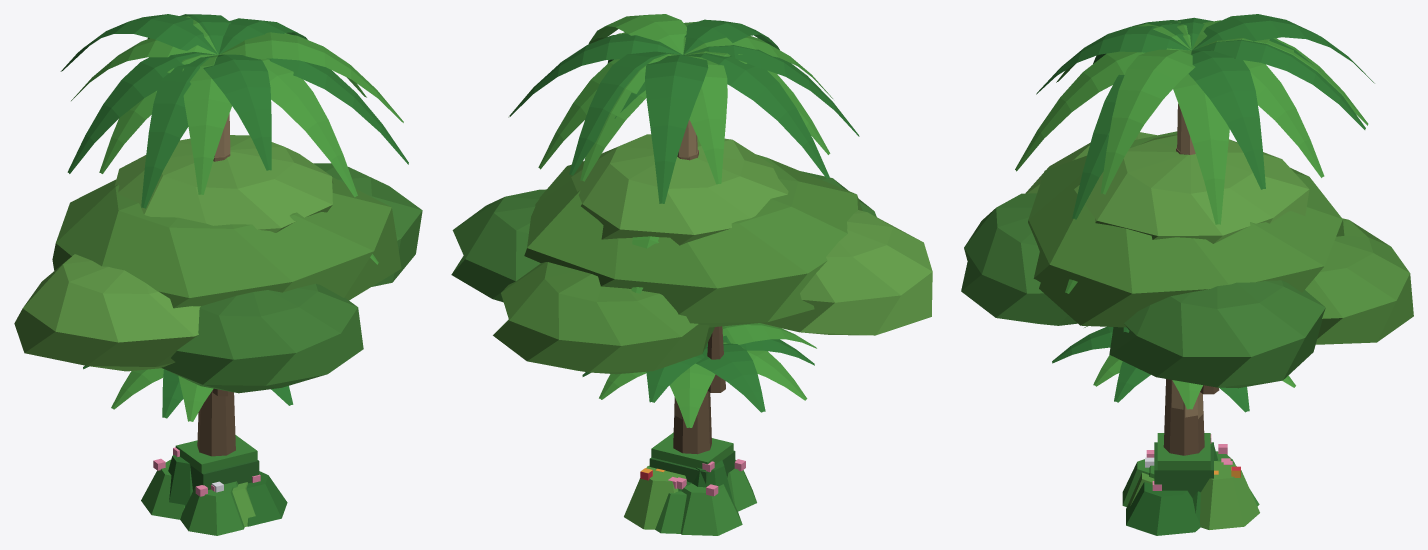
The model's file is veg.glb.
The picture shows the model from 3 angles, left to right: view 1: azimuth 30°, elevation 25°; view 2: azimuth 150°, elevation 25°; view 3: azimuth 270°, elevation 25°; orthographic projection. The views are drawn at different scales.
Visible parts, largest first — view 1: oak, palm_tall, shrub_b, palm_small, hedge, shrub_a; view 2: oak, palm_tall, palm_small, shrub_a, hedge, shrub_b; view 3: oak, palm_tall, shrub_b, shrub_a, palm_small, hedge.
Boxes of the visible parts, bbox=[...] form: oak: bbox=[14, 135, 422, 456]; palm_tall: bbox=[60, 14, 408, 208]; shrub_b: bbox=[168, 447, 287, 535]; palm_small: bbox=[83, 365, 293, 421]; hedge: bbox=[175, 435, 259, 490]; shrub_a: bbox=[141, 458, 184, 519]; oak: bbox=[451, 134, 932, 454]; palm_tall: bbox=[508, 14, 859, 419]; palm_small: bbox=[582, 323, 816, 427]; shrub_a: bbox=[624, 465, 742, 535]; hedge: bbox=[649, 432, 735, 484]; shrub_b: bbox=[693, 459, 756, 511]; oak: bbox=[961, 131, 1413, 455]; palm_tall: bbox=[1015, 14, 1374, 418]; shrub_b: bbox=[1122, 434, 1217, 535]; shrub_a: bbox=[1192, 444, 1259, 529]; palm_small: bbox=[1052, 326, 1295, 412]; hedge: bbox=[1154, 433, 1213, 497].
Bounding box in the file's own units: 7.52 × 7.95 × 6.84.
